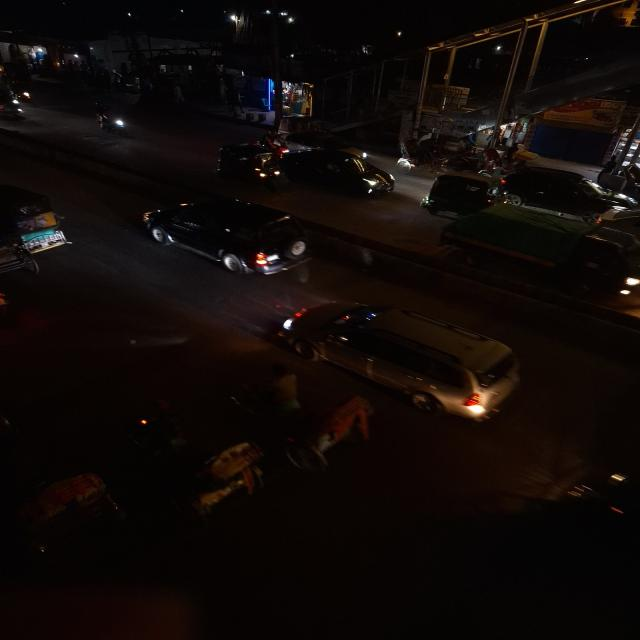car: (252, 300, 538, 427), (138, 197, 313, 279), (498, 166, 639, 226), (278, 146, 399, 200), (0, 82, 25, 120)
cng: (0, 181, 71, 256), (419, 171, 495, 221), (212, 142, 283, 184)
motorcycle: (90, 102, 133, 138)
rickshaw: (115, 412, 281, 524), (227, 365, 380, 463), (394, 135, 454, 173)
truck: (434, 211, 640, 298)
